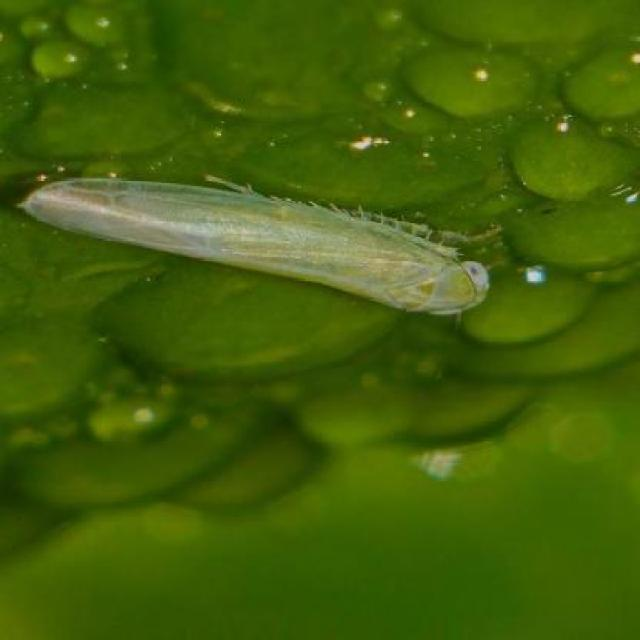green-leafhopper: (22, 168, 509, 321)
